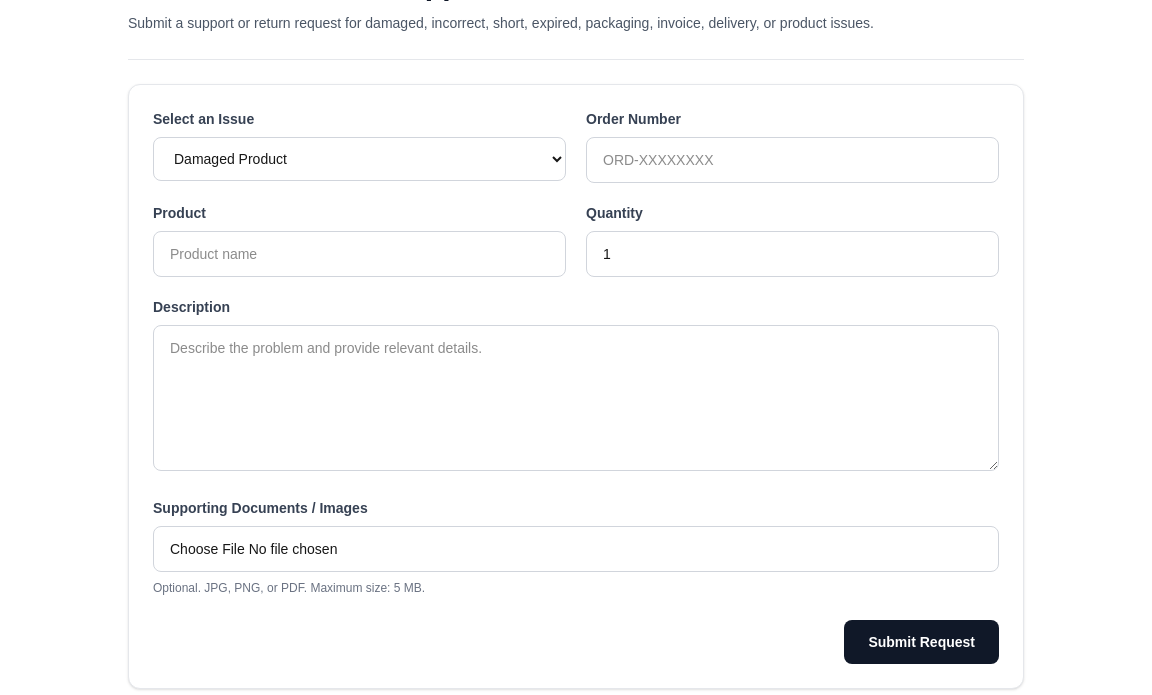
Test case: Support page integration › validates required fields
(page scrolled)
Click the button "Submit Request".
click(922, 642)  # box [844, 620, 999, 664]
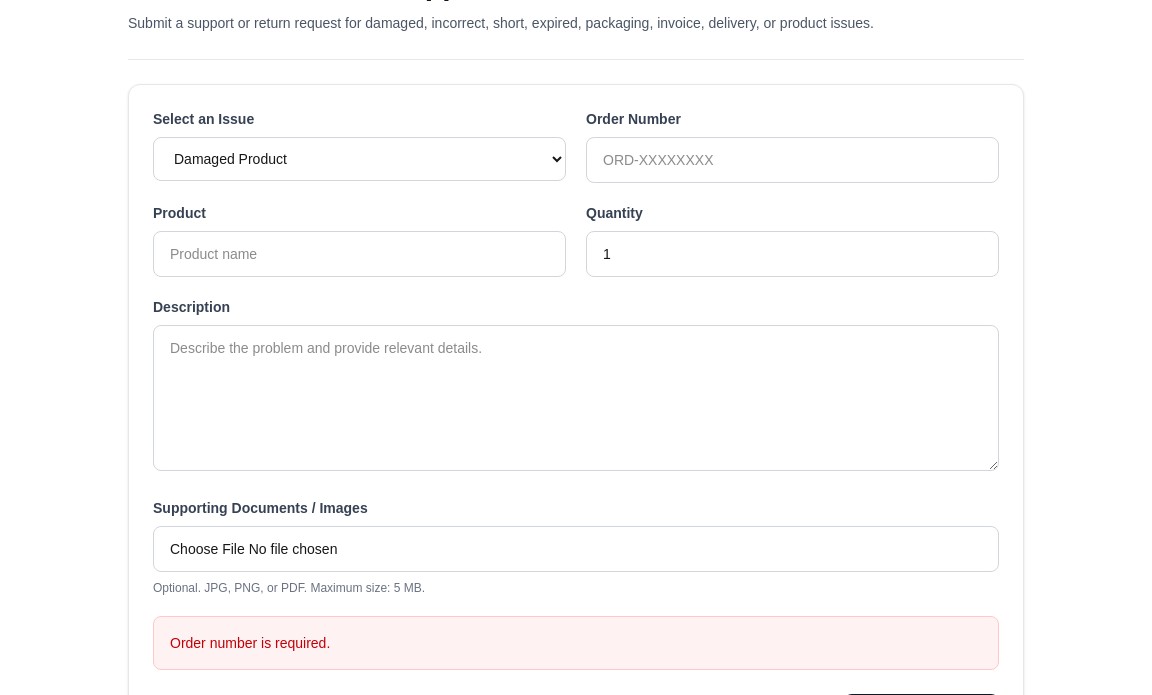
Check: the text "Order number is required." is shown, box [153, 616, 999, 670]
